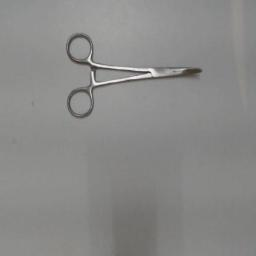Crile Artery Forceps: (64, 28, 206, 118)
